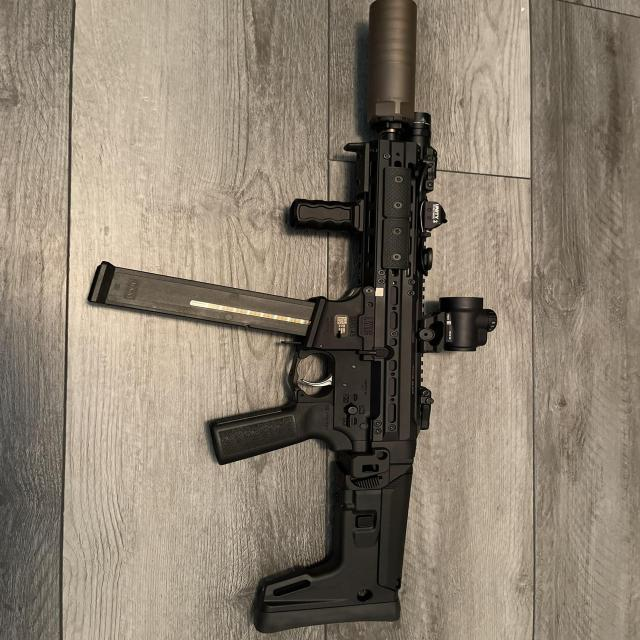Weapon: (88, 0, 496, 632)
